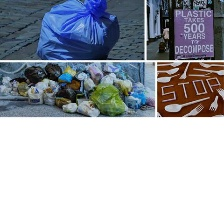plastic_bag: (31, 0, 125, 61)
